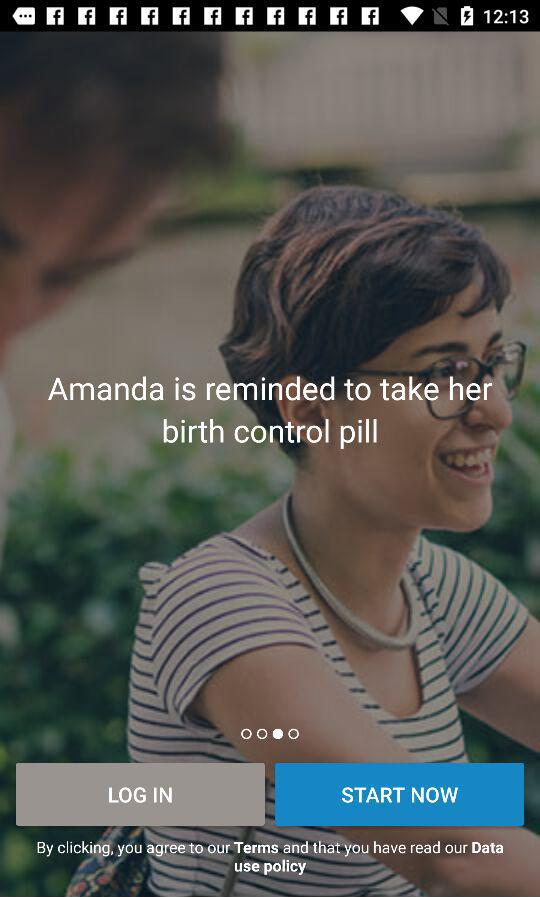BackgroundImage: (1, 33, 540, 897)
PageIndicator: (240, 727, 301, 742)
Text: (47, 375, 493, 450), (37, 840, 504, 876)
TextButton: (274, 762, 525, 827), (16, 763, 266, 827)
UpperTaskBar: (1, 1, 540, 33)
